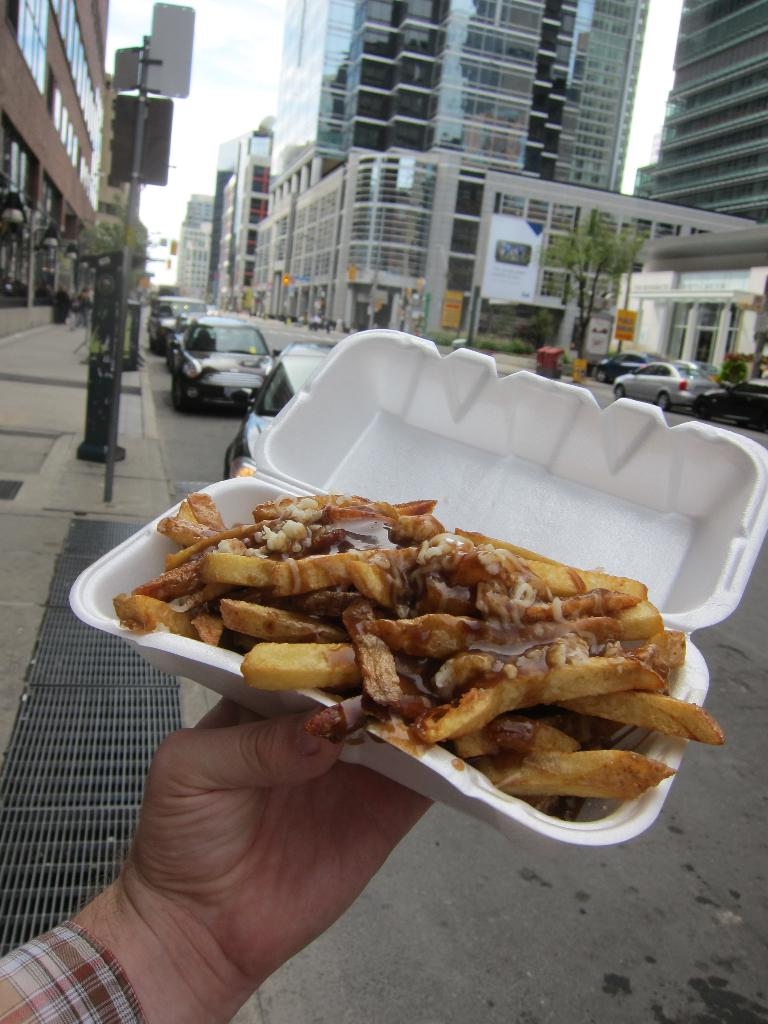French fries: (124, 499, 678, 817)
